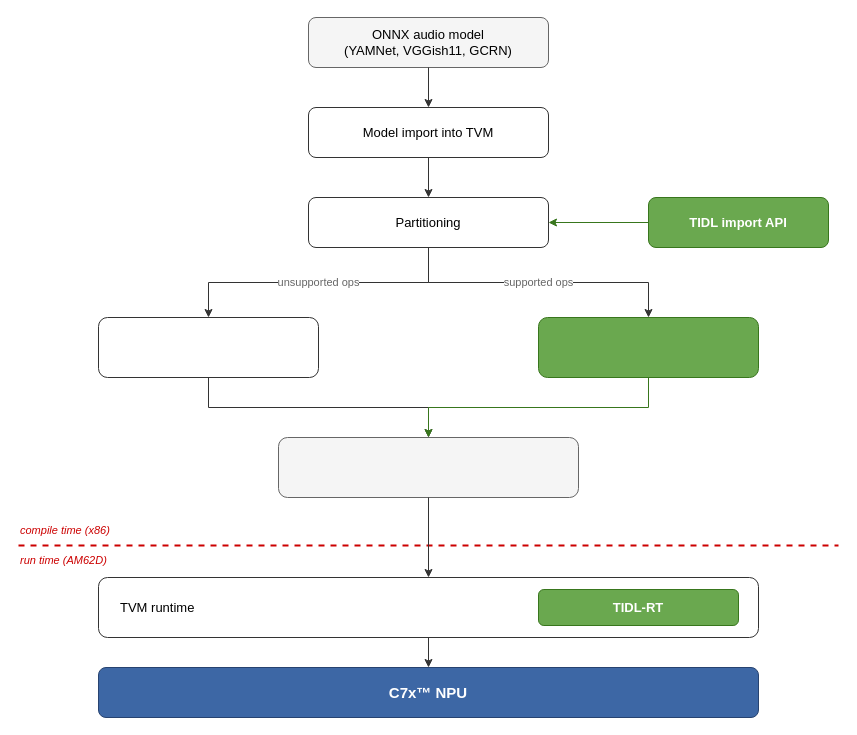
Image size: 857x735. Some labels were removed from this diagram. Here are the shapes that lost their labels. From the top down, the centre of each, then its label:
At pixel 208 347: "TVM C7x™ NPU code generation".
At pixel 648 347: "TIDL network compiler".
At pixel 428 467: "TVM-RT deployable artifact (deploy_lib.so + graph.json + params)".
